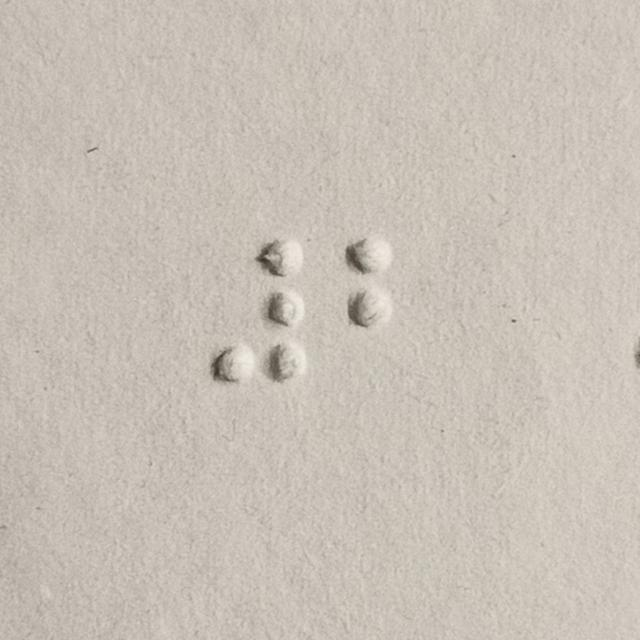digit_2: (345, 235, 436, 383)
number_sign: (212, 237, 304, 385)
